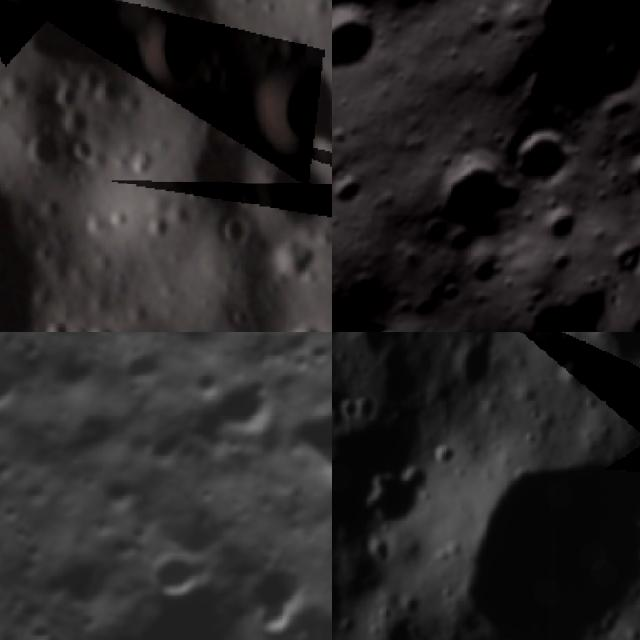crater: (455, 455, 640, 640), (462, 0, 640, 157), (402, 138, 542, 279), (137, 107, 276, 246), (212, 32, 332, 189), (222, 133, 332, 262), (487, 111, 590, 212), (225, 544, 328, 640), (110, 0, 210, 96), (332, 231, 415, 332), (332, 0, 400, 103), (144, 536, 220, 613), (284, 384, 332, 491), (2, 115, 75, 184), (210, 370, 276, 436), (536, 201, 599, 265), (114, 338, 177, 401), (366, 465, 427, 530), (274, 583, 332, 640), (95, 470, 152, 527), (0, 352, 36, 431), (608, 137, 640, 211), (332, 160, 372, 216), (600, 231, 640, 280), (590, 332, 640, 368), (13, 332, 57, 369), (285, 344, 319, 378), (190, 366, 223, 400), (274, 313, 332, 332), (222, 429, 254, 462), (22, 612, 59, 640), (0, 494, 28, 528), (305, 333, 332, 366), (77, 317, 128, 332), (429, 444, 456, 472), (0, 452, 22, 486), (196, 478, 223, 505), (354, 396, 378, 425), (76, 608, 102, 634), (332, 409, 349, 434)
